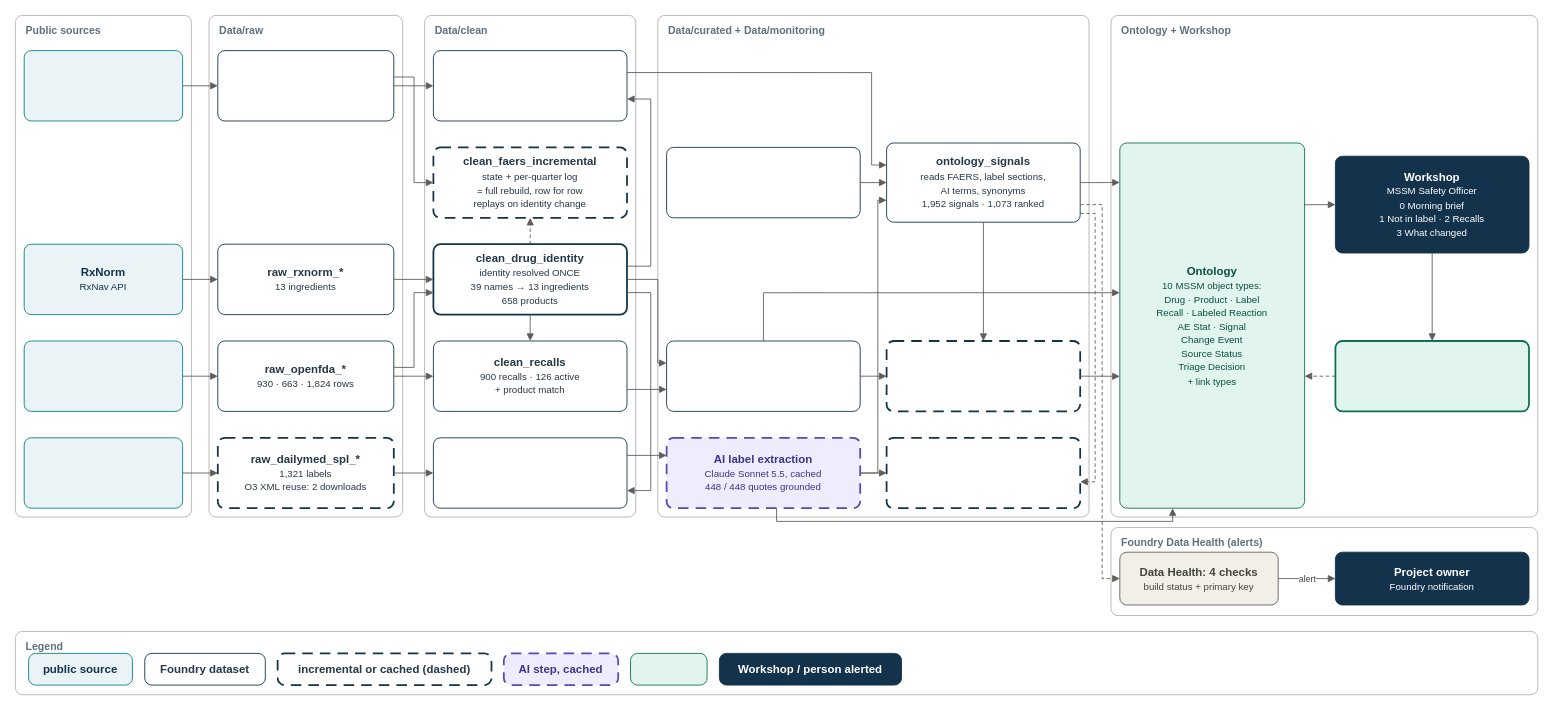
The diagram is 1553 pixels wide and 710 high, and some of its shapes have lost their labels. Here are the shapes that lost their labels. From the top down, the centre of each, then its label:
pixel 103 85: FAERS quarterly files 2026Q1 + Q2
pixel 305 85: raw_faers_quarter_* 37 files + manifest
pixel 530 85: clean_faers (full) 792,346 current cases feeds signals (D044)
pixel 763 182: label_synonyms syn_v2 · 258 reviewed rows
pixel 103 375: openFDA recalls · Drugs@FDA NDC
pixel 763 375: ontology_objects drugs · products · labels recalls · link tables
pixel 983 376: ontology_changes 2,898 change events + source as-of
pixel 1431 376: Action Create Triage Decision write-back: new object
pixel 103 472: DailyMed label SPL XML
pixel 530 472: clean_labels 1,321 versions 5,431 safety sections
pixel 983 472: monitoring 21 checks per build + drift replay
pixel 668 669: Ontology
